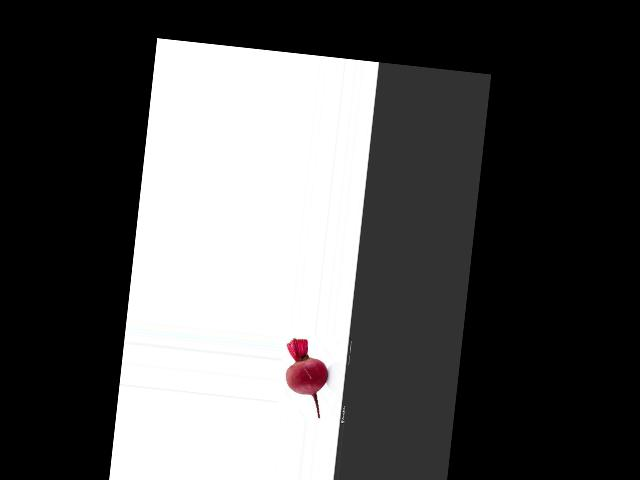beet: (280, 337, 331, 418)
